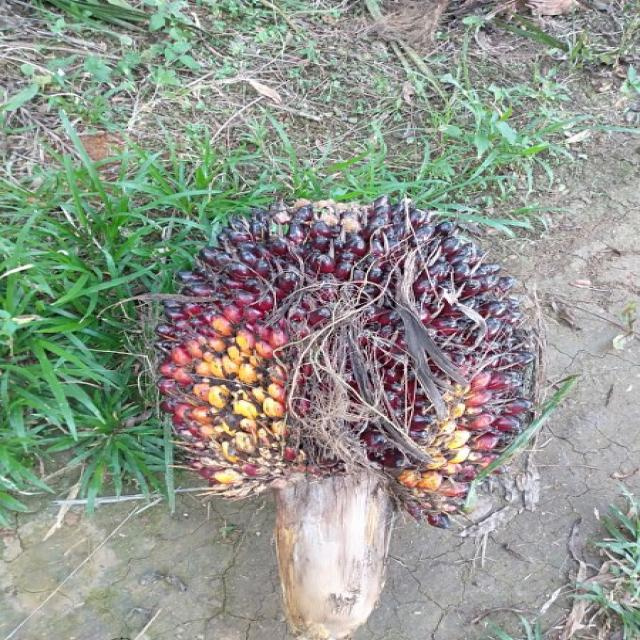fraksi 1: (142, 202, 540, 508)
